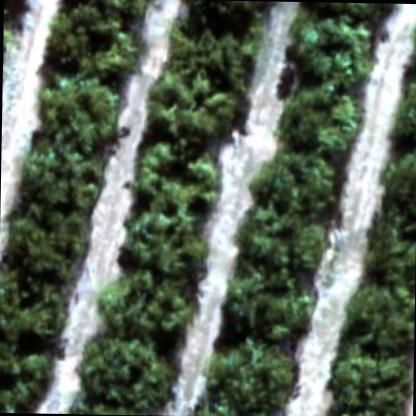Canopy-Citrus: (144, 68, 252, 148), (202, 334, 303, 415), (127, 140, 224, 218), (76, 332, 178, 405), (234, 206, 331, 281), (216, 274, 315, 346), (288, 17, 376, 96), (44, 5, 143, 75), (116, 212, 210, 284), (100, 268, 198, 337), (37, 75, 124, 150), (272, 88, 360, 160), (250, 150, 342, 218), (165, 19, 259, 84), (0, 214, 93, 279), (14, 148, 107, 210), (342, 276, 414, 356), (328, 352, 412, 414), (0, 280, 74, 346), (0, 339, 60, 413), (367, 218, 415, 284), (56, 0, 164, 29), (180, 1, 275, 29), (380, 149, 415, 223), (307, 3, 400, 24), (66, 398, 163, 415), (190, 400, 291, 415), (387, 95, 415, 149), (321, 403, 413, 415), (401, 30, 415, 104)
